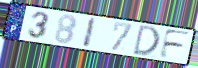3: (27, 11, 51, 40)
7: (111, 21, 134, 53)
8: (53, 13, 79, 45)
D: (131, 23, 161, 57)
F: (157, 28, 192, 60)
I: (82, 16, 98, 50)
